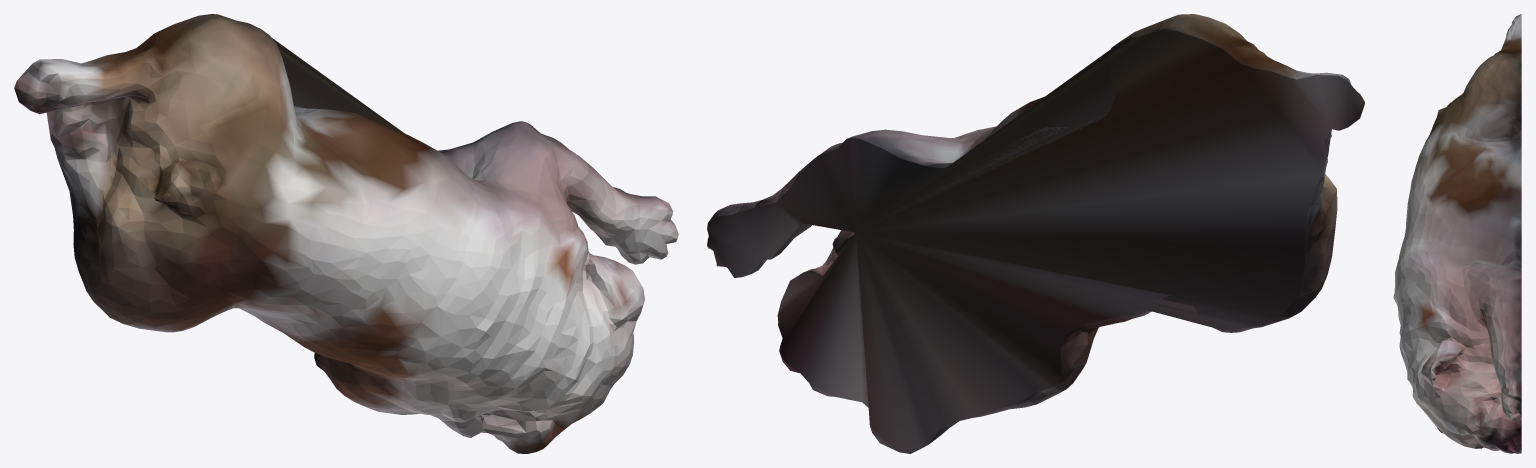
File: iggy4.dae
3 views of the same model, side by side, from view 1: azimuth 30°, elevation 25°; view 2: azimuth 150°, elevation 25°; view 3: azimuth 270°, elevation 25° (orthographic). The views are drawn at different scales.
Visible parts, largest first — view 1: node; view 2: node; view 3: node.
Part boxes in pixels (x1,y1,x2,y2): node: (14, 14, 678, 453); node: (707, 14, 1364, 453); node: (1393, 14, 1521, 453).
Bounding box in the file's own units: 784 × 558 × 211.
